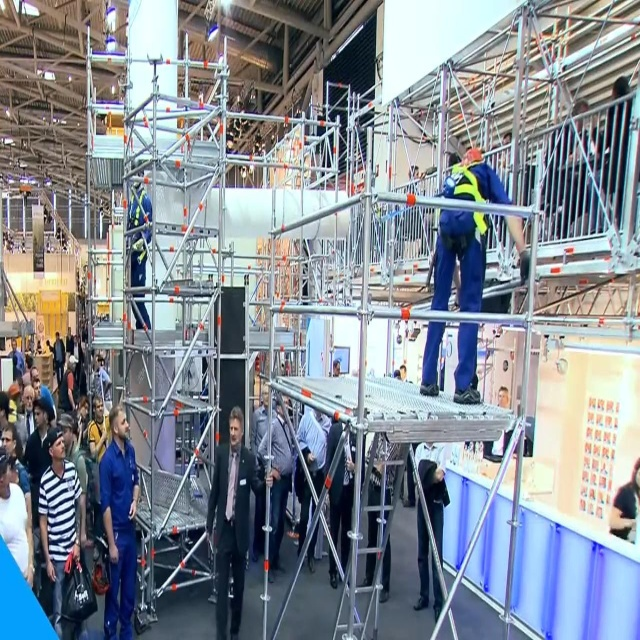Arnes_seguridad: (436, 152, 491, 260), (123, 193, 150, 260)
